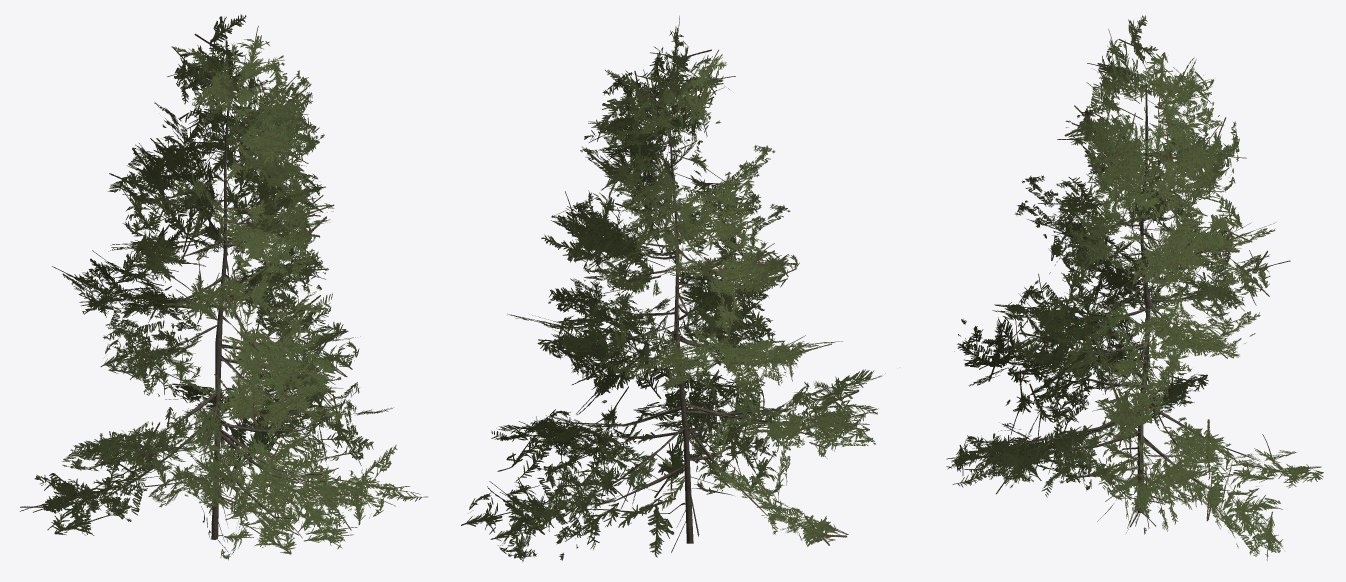
3 views of the same model, side by side, from view 1: azimuth 30°, elevation 25°; view 2: azimuth 150°, elevation 25°; view 3: azimuth 270°, elevation 25° (orthographic). The views are drawn at different scales.
Parts seen in each view (by area): view 1: fir_sapling_medium__c_lod2; view 2: fir_sapling_medium__c_lod2; view 3: fir_sapling_medium__c_lod2.
Part boxes in pixels (left/top/right/bottom): fir_sapling_medium__c_lod2: left=20, top=14, right=427, bottom=560; fir_sapling_medium__c_lod2: left=461, top=16, right=885, bottom=562; fir_sapling_medium__c_lod2: left=946, top=15, right=1323, bottom=560.
Bounding box in the file's own units: 4.37 × 6.02 × 4.24.
2 materials, 2 textured.
